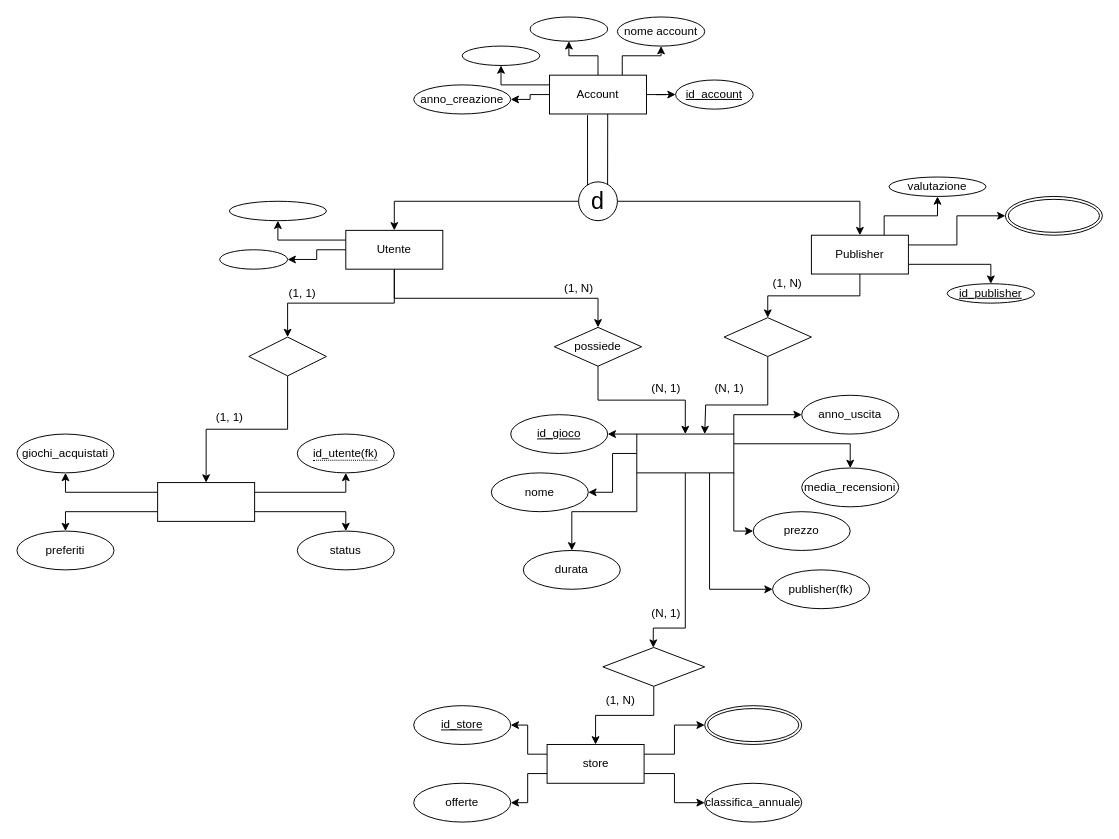
Some shapes in this 1119 by 839 pixel diagram are drawn without their labels. Here are the shapes that lost their labels. From the top down, the centre of each, then its label:
At [568,28]: "email".
At [500,55]: "password".
At [277,210]: "giochi_giocati".
At [1053,215]: "giochi_pubblicati".
At [253,259]: "id_utente".
At [287,356]: "ottiene".
At [767,336]: "pubblica".
At [685,453]: "gioco".
At [206,501]: "Libreria".
At [653,666]: "acquistabile".
At [753,724]: "filtro".
